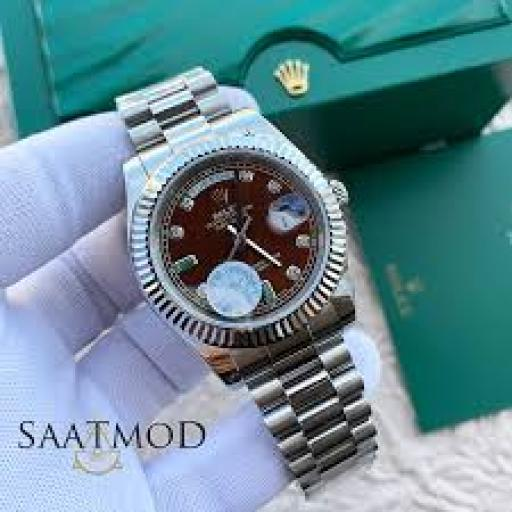KolSaati: (79, 54, 412, 499)
